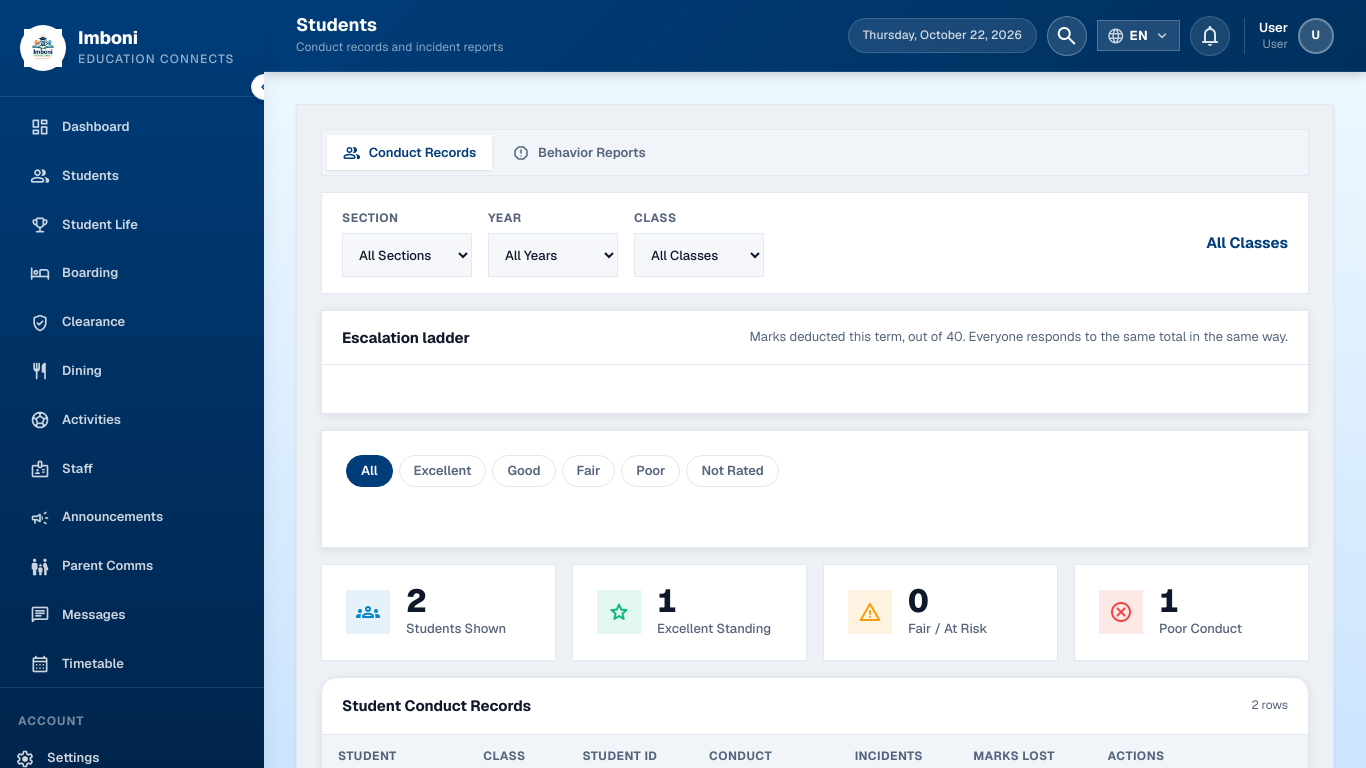
Scenario: DisStudents › shows rejected reports with their review notes
Click the tab "Behavior Reports".
click(579, 153)  # box [496,135,662,170]
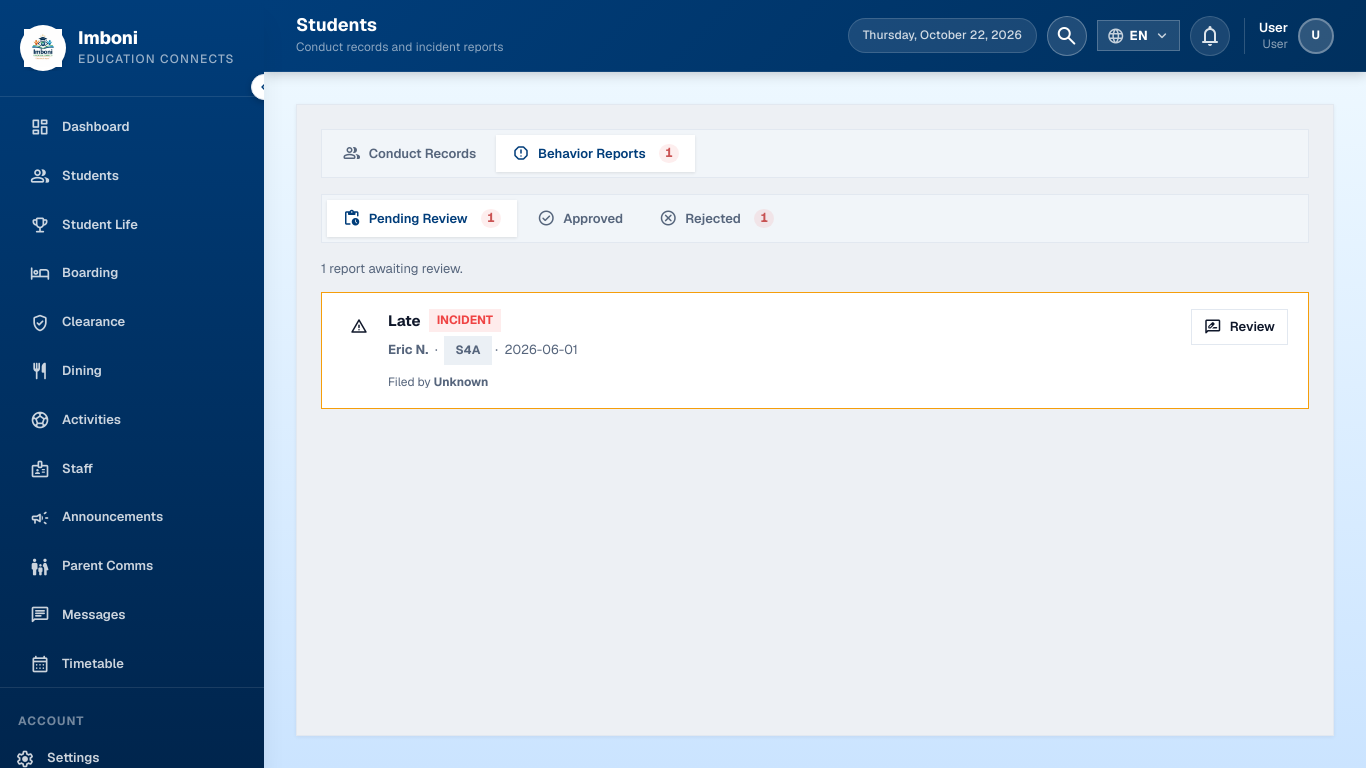
Check: the text "Late" is shown, box [388,309,421,333]
Click the tab "Rejected 1".
click(717, 218)  # box [643,200,790,237]
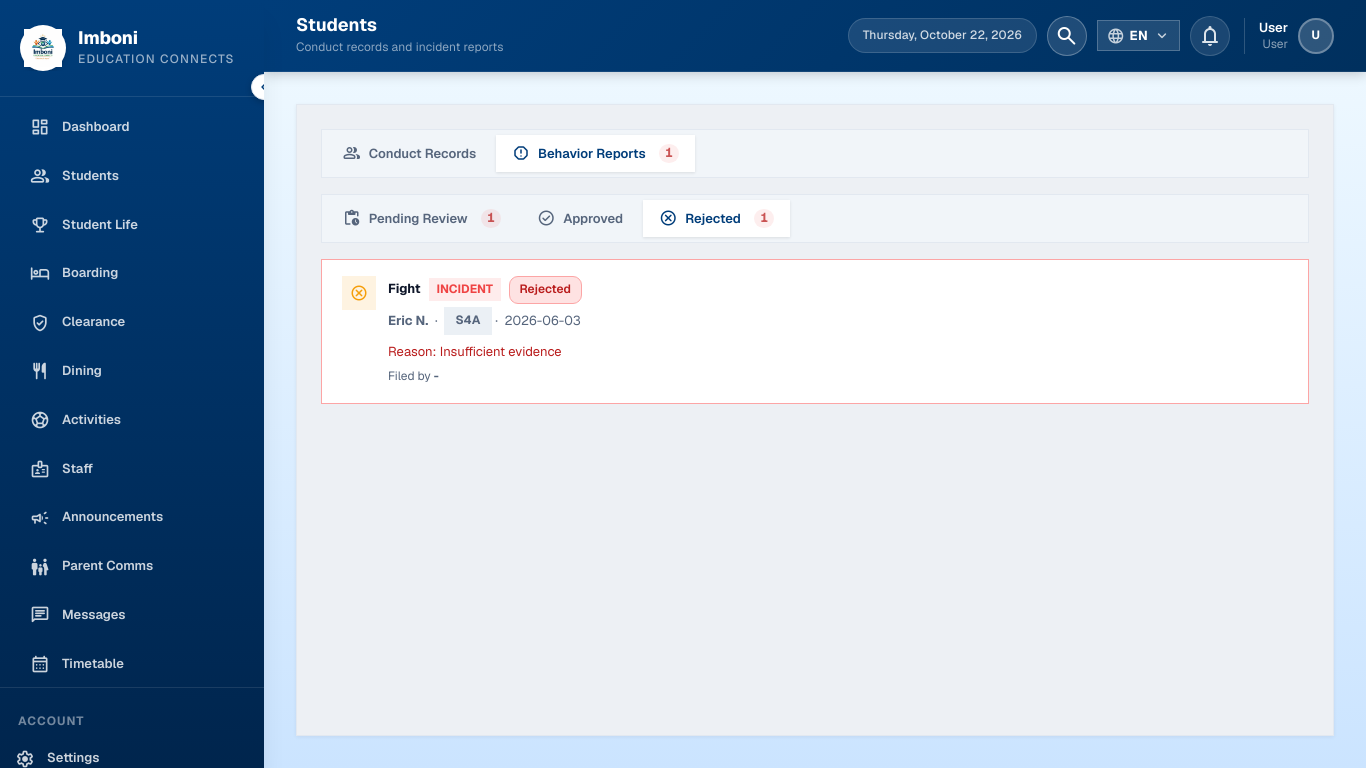
Check: the text "Fight" is shown, box [388,279,421,300]
Check: the text "Reason: Insufficient evidence" is shown, box [388,343,562,360]
